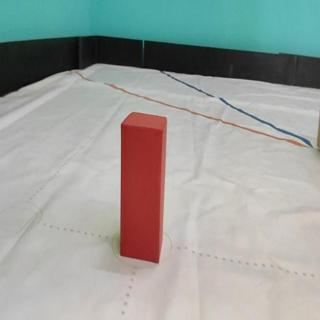redbox: (119, 109, 168, 265)
